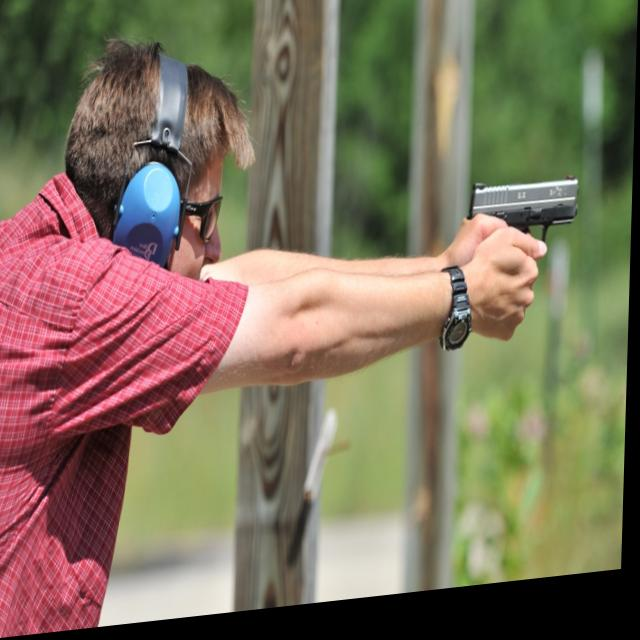handgun: (468, 186, 580, 274)
